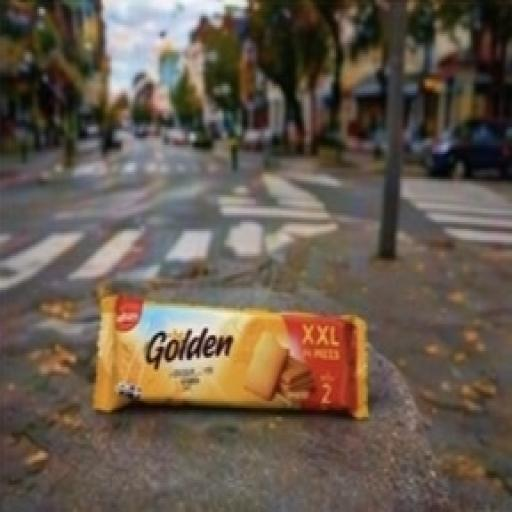golden: (71, 230, 411, 440)
